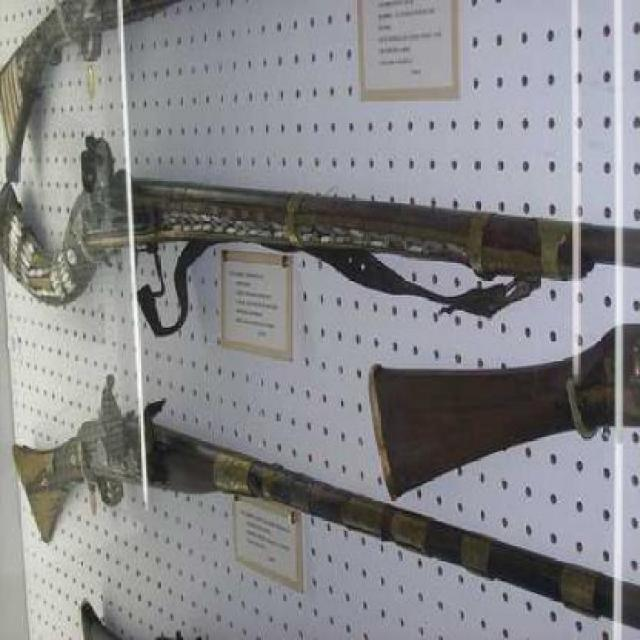weapon: (23, 396, 639, 640), (19, 147, 640, 336), (0, 0, 216, 185), (369, 353, 640, 481)
